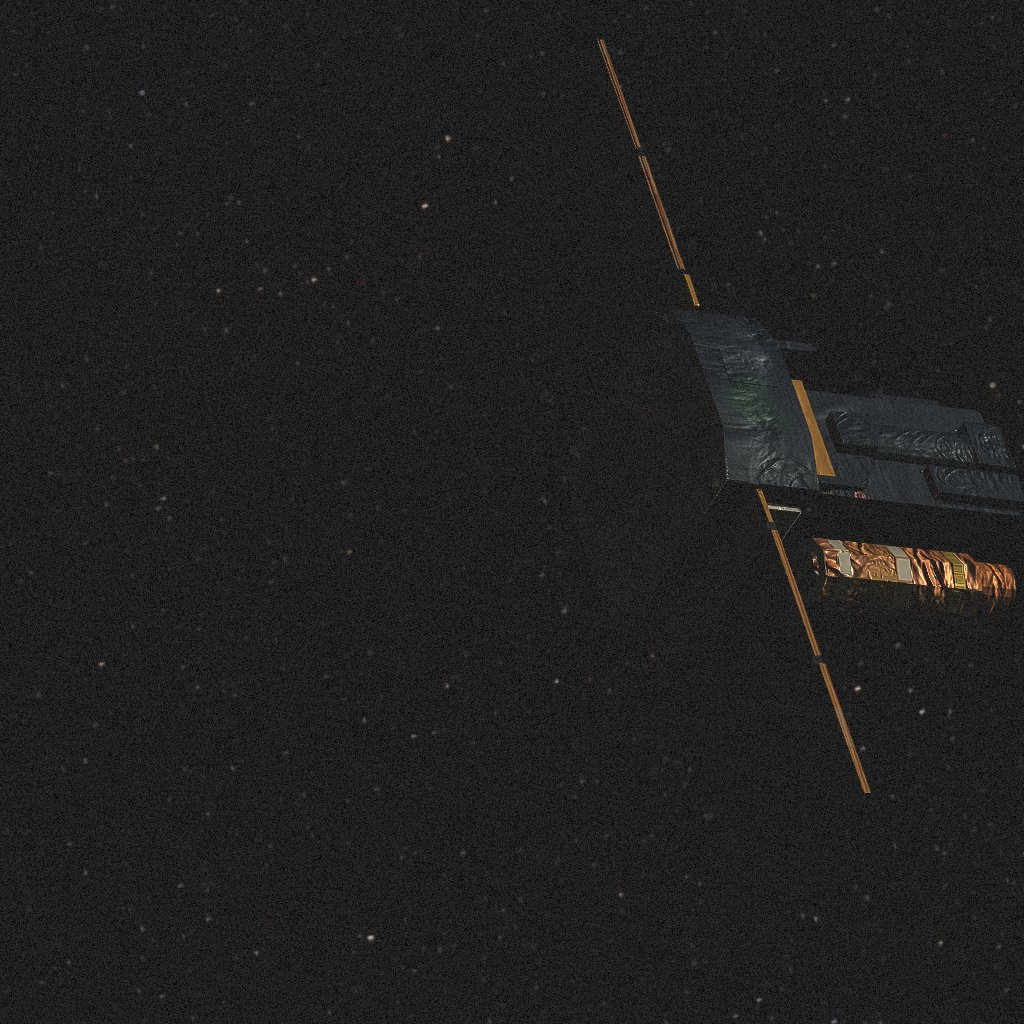soho: (504, 39, 1024, 948)
